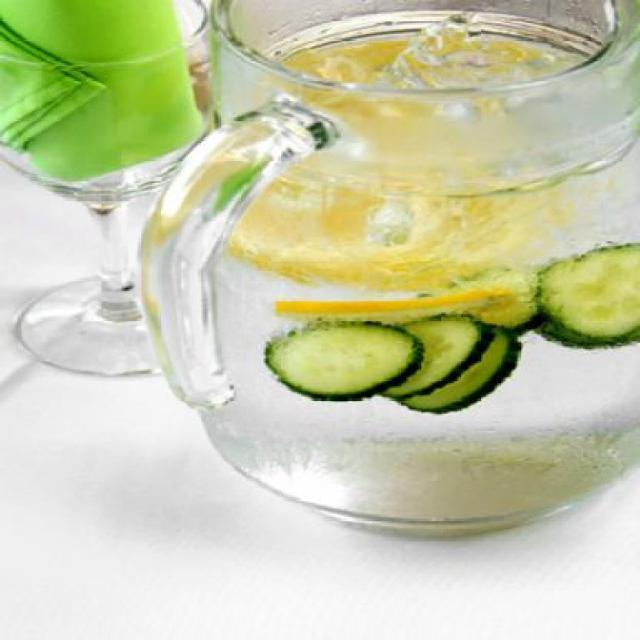Cucumber: (260, 243, 638, 425), (530, 246, 638, 352)
